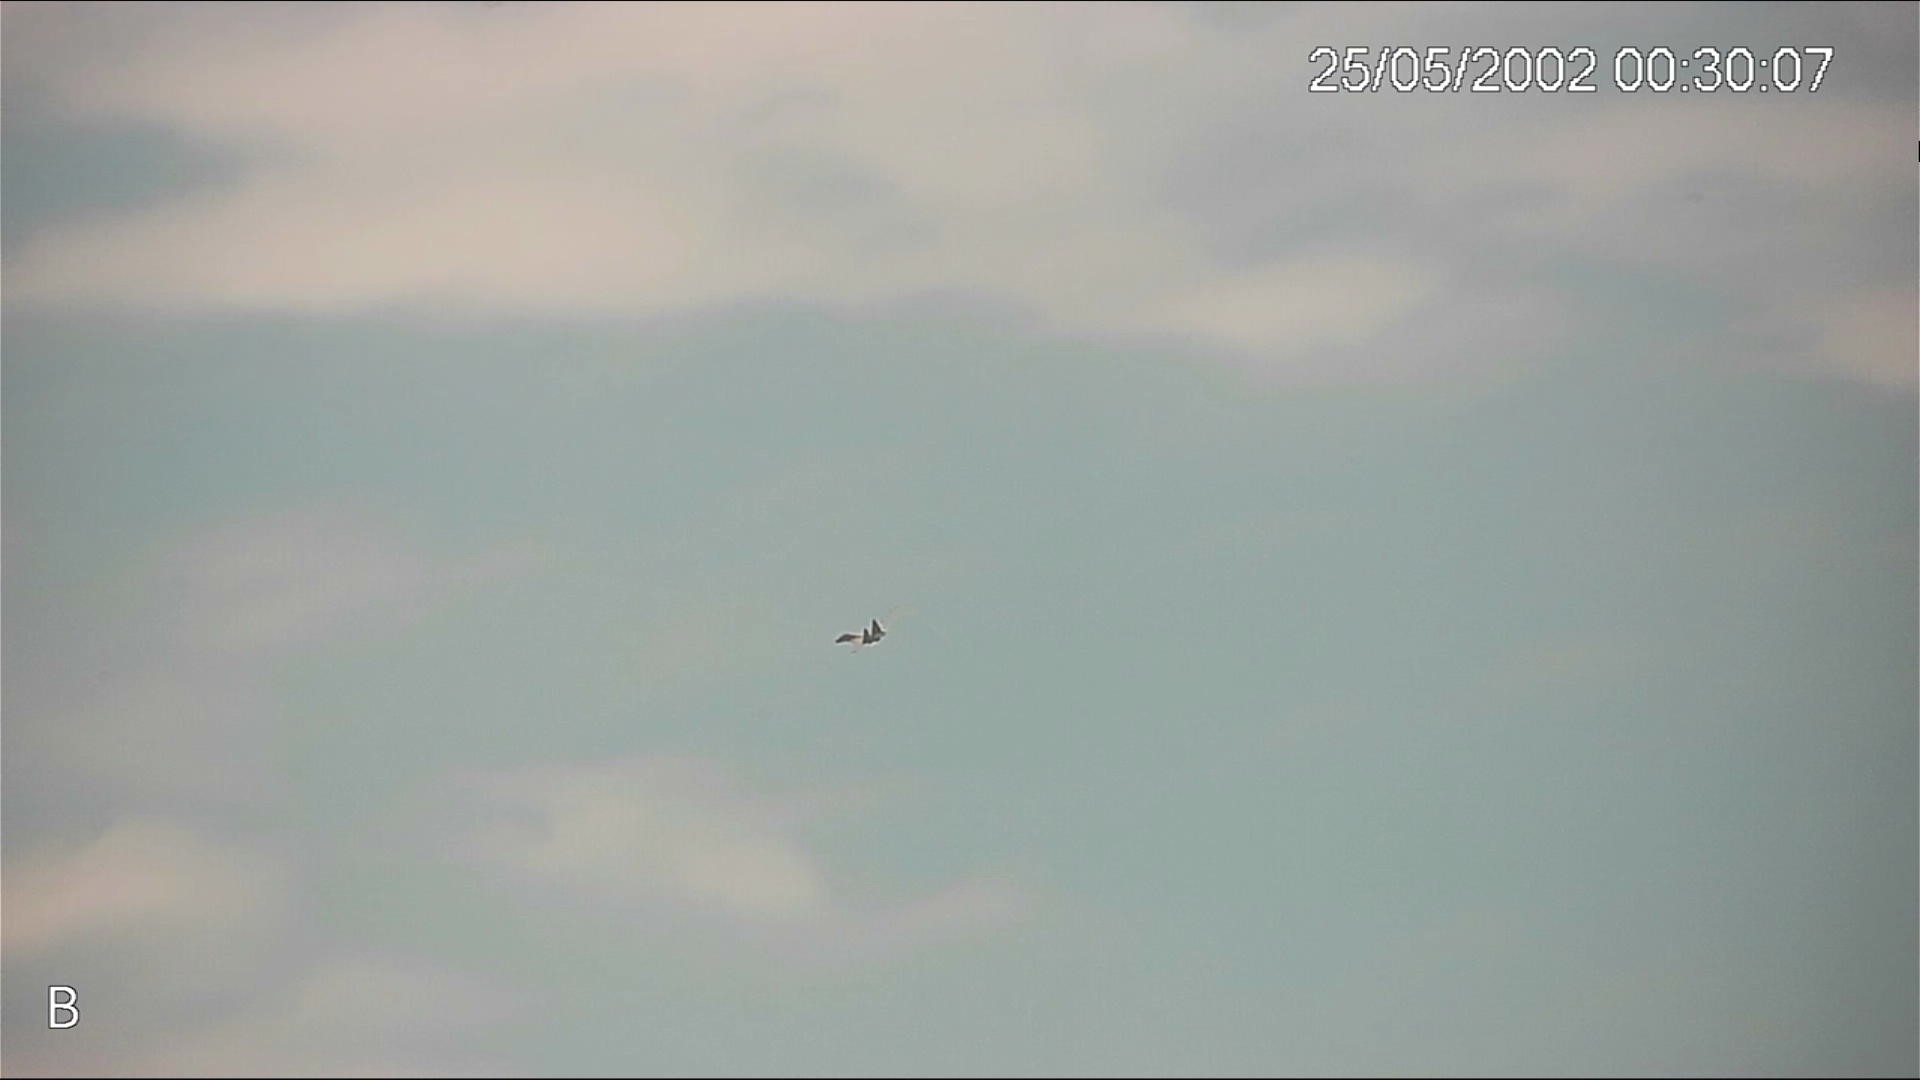SU_30: (835, 618, 889, 653)
